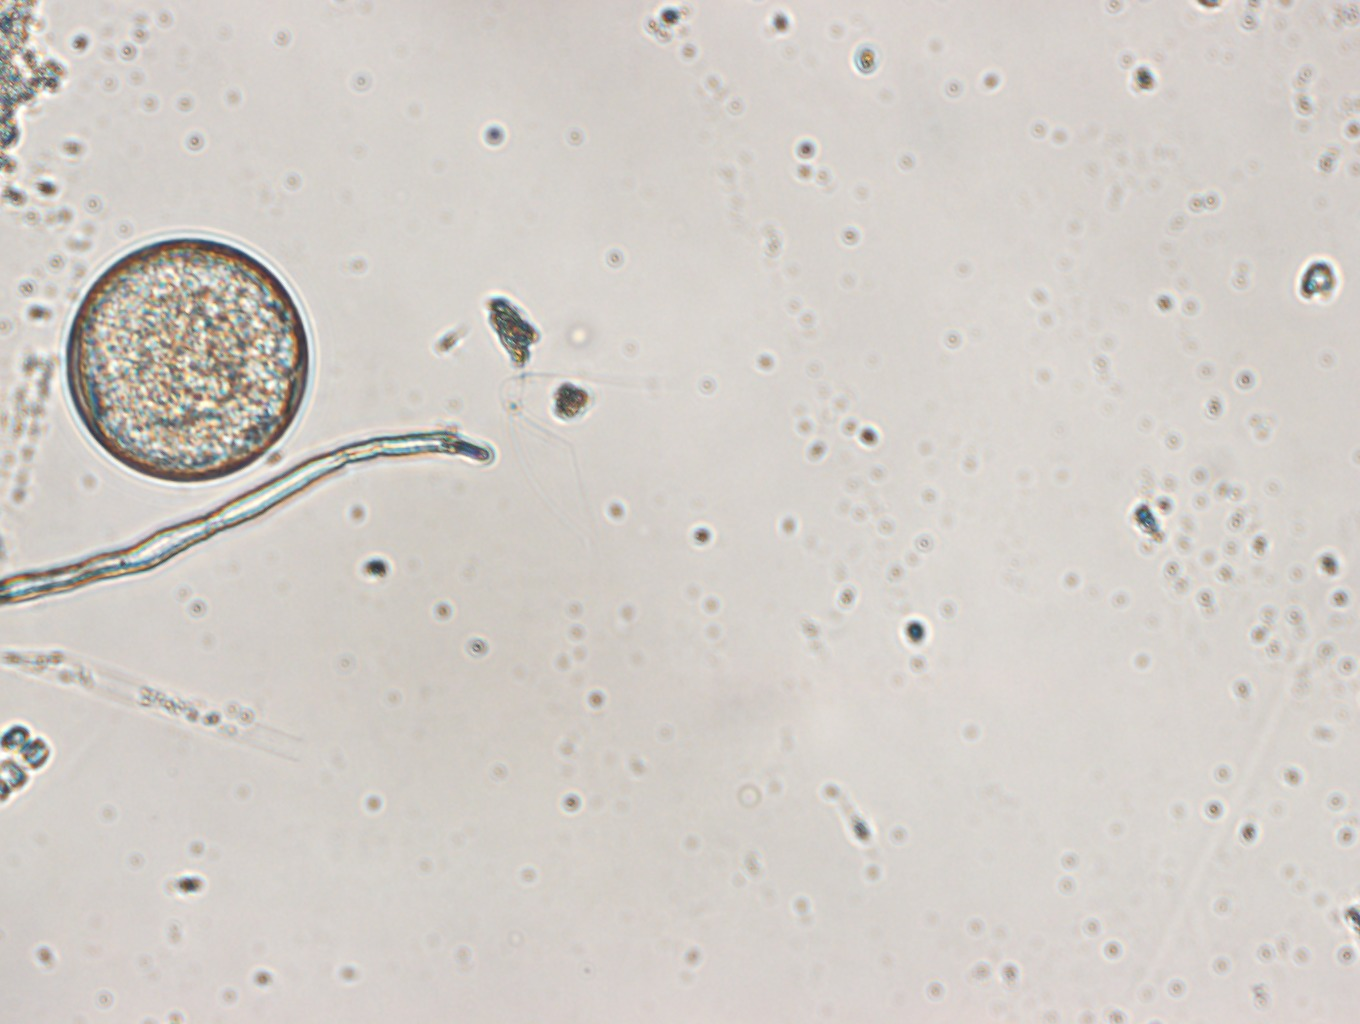coscinodiscus: (65, 231, 321, 490)
